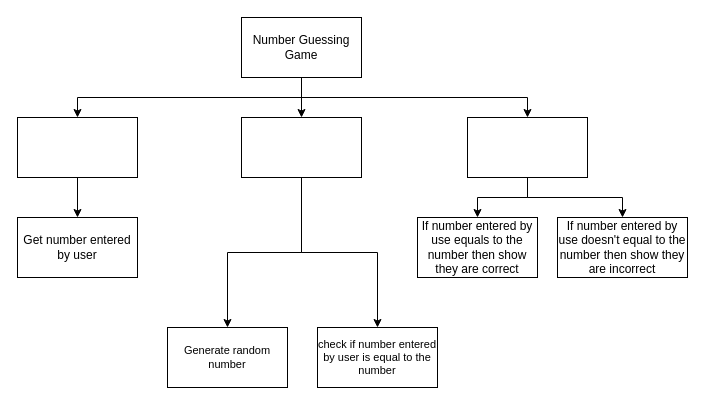
Image size: 705x405. Some labels were removed from this diagram. The centre of each missing label's shape, as x and y in pixels:
Input: point 77,147
Output: point 527,147
Process: point 301,147
